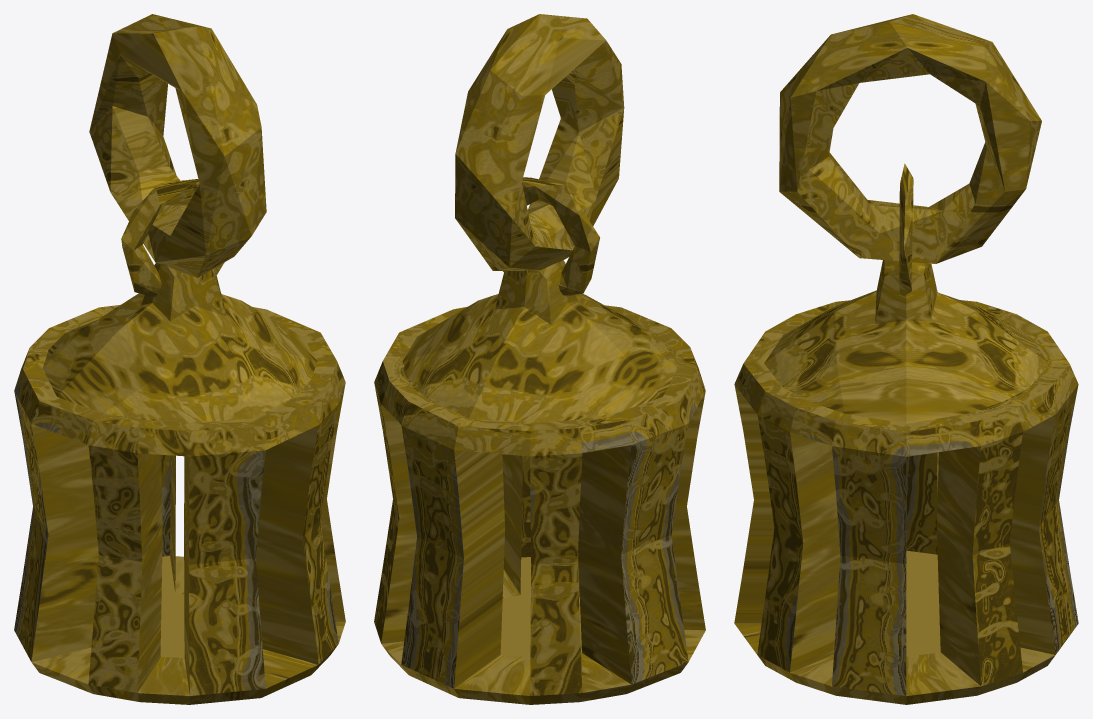
The model's file is cagelantern5.fbx.
The picture shows the model from 3 angles, left to right: view 1: azimuth 30°, elevation 25°; view 2: azimuth 150°, elevation 25°; view 3: azimuth 270°, elevation 25°; orthographic projection.
Parts seen in each view (by area): view 1: Torus.001; view 2: Torus.001; view 3: Torus.001.
Part boxes in pixels (x1,y1,x2,y2): Torus.001: (14, 14, 345, 704); Torus.001: (374, 14, 705, 704); Torus.001: (734, 14, 1078, 704).
Bounding box in the file's own units: 229 × 463 × 229.
